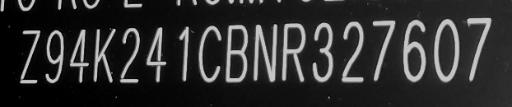letter: (430, 15, 466, 88), (464, 12, 496, 85), (398, 17, 430, 88), (367, 16, 399, 85), (337, 18, 369, 87), (279, 19, 311, 86), (249, 20, 281, 85), (193, 21, 225, 86), (310, 19, 340, 86), (88, 25, 122, 84), (222, 21, 250, 88), (142, 24, 172, 85), (116, 24, 146, 85), (14, 26, 42, 89), (40, 27, 68, 86), (66, 24, 92, 87), (172, 21, 194, 86)
